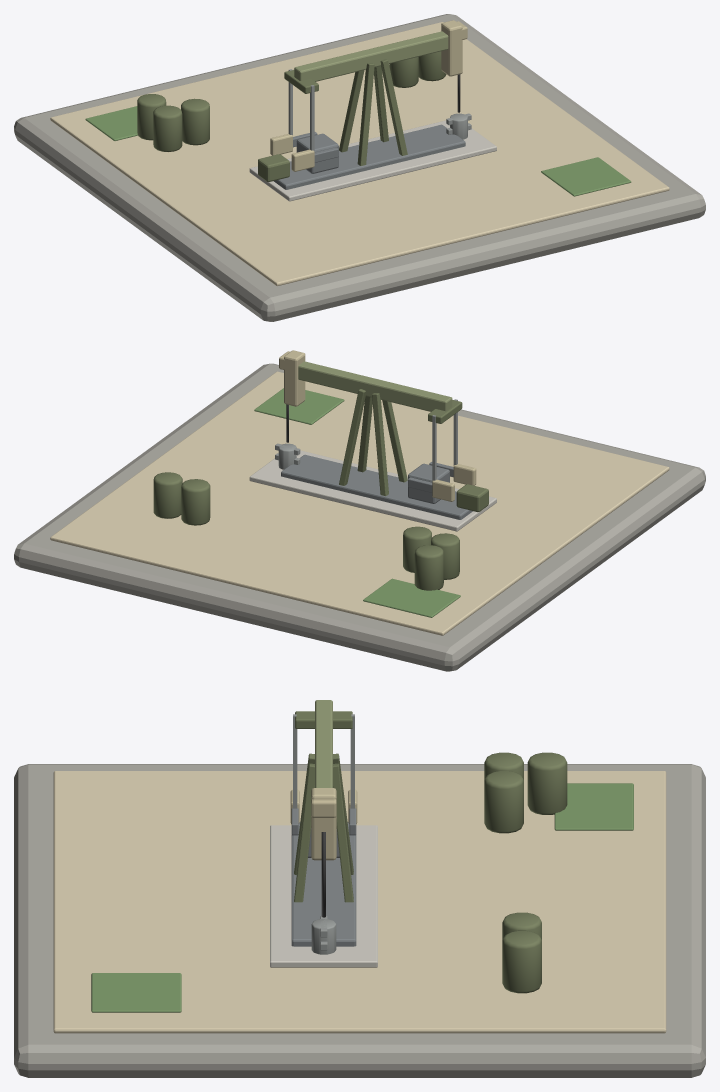
Rendered from oilwell_1.glb.
3 renders of one model, top to bottom at view 1: azimuth 30°, elevation 25°; view 2: azimuth 150°, elevation 25°; view 3: azimuth 270°, elevation 25°, orthographic. The views are drawn at different scales.
Visible parts, largest first — view 1: Cube.001, Cube, Cube.005, Cube.004, Cube.010, Cube.003, Cylinder.002, Cylinder.003, Cube.002, Cube.011, Cube.006, Cylinder.004 (+7 smaller); view 2: Cube.001, Cube, Cube.005, Cube.004, Cube.010, Cube.002, Cube.003, Cylinder.005, Cylinder.004, Cylinder.006, Cube.011, Cube.008 (+7 smaller); view 3: Cube.001, Cube, Cube.004, Cube.005, Cube.003, Cube.002, Cylinder.004, Cylinder.006, Cylinder.003, Cube.010, Cube.011, Cube.007 (+5 smaller).
Part boxes in pixels (box(x1,y1,x2,y2)): Cube.001: box(50, 22, 669, 286); Cube: box(14, 14, 705, 321); Cube.005: box(273, 124, 465, 189); Cube.004: box(249, 120, 496, 201); Cube.010: box(294, 31, 448, 81); Cube.003: box(541, 157, 631, 196); Cylinder.002: box(153, 105, 182, 151); Cylinder.003: box(181, 98, 209, 145); Cube.002: box(85, 106, 137, 140); Cube.011: box(441, 20, 462, 76); Cube.006: box(357, 63, 374, 165); Cylinder.004: box(137, 94, 166, 140); Cube.001: box(50, 371, 669, 635); Cube: box(14, 363, 705, 671); Cube.005: box(281, 454, 472, 519); Cube.004: box(249, 450, 496, 531); Cube.010: box(298, 361, 452, 411); Cube.002: box(363, 578, 460, 617); Cube.003: box(254, 388, 344, 424); Cylinder.005: box(181, 479, 210, 525); Cylinder.004: box(414, 545, 443, 590); Cylinder.006: box(153, 472, 182, 518); Cube.011: box(284, 350, 305, 406); Cube.008: box(372, 393, 388, 496); Cube.001: box(53, 771, 666, 1033); Cube: box(14, 764, 705, 1077); Cube.004: box(270, 825, 377, 967); Cube.005: box(291, 822, 356, 946); Cube.003: box(91, 973, 181, 1012); Cube.002: box(554, 783, 633, 830); Cylinder.004: box(527, 752, 567, 814); Cylinder.006: box(502, 930, 541, 993); Cylinder.003: box(484, 771, 523, 833); Cube.010: box(315, 700, 332, 787); Cube.011: box(311, 788, 336, 860); Cube.007: box(294, 763, 314, 902).
Bounding box in the file's own units: 1.92 × 0.605 × 1.92.
